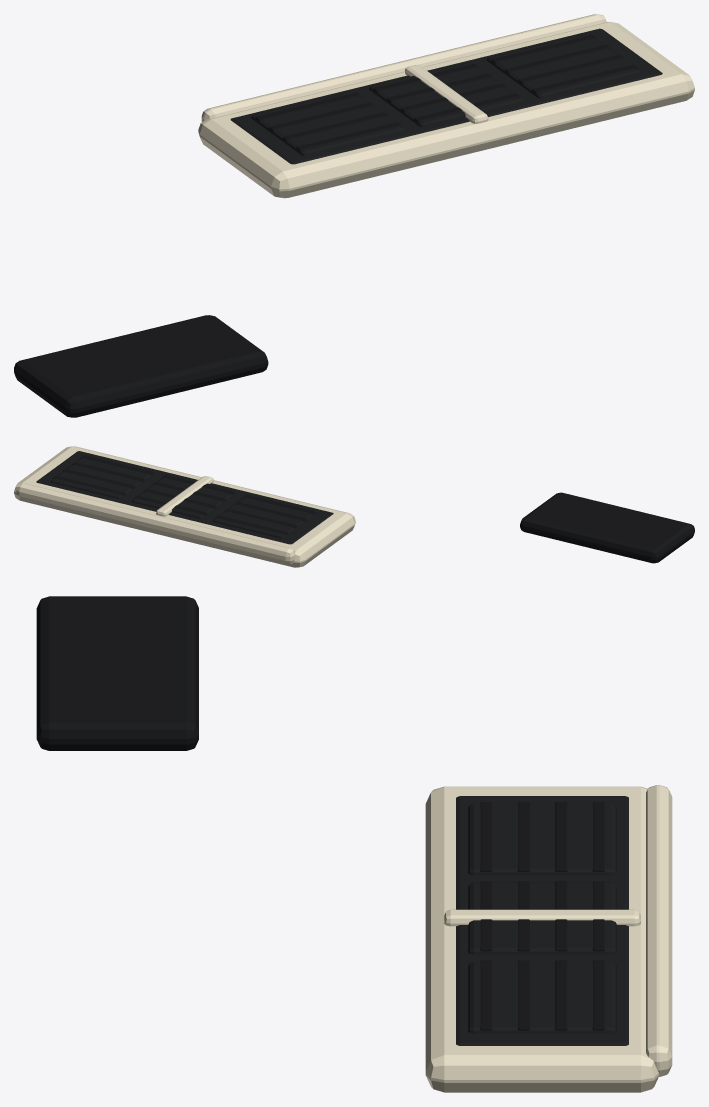
The model's file is hood_urnieta_1970.glb.
The picture shows the model from 3 angles, top to bottom: view 1: azimuth 30°, elevation 25°; view 2: azimuth 150°, elevation 25°; view 3: azimuth 270°, elevation 25°; orthographic projection. The views are drawn at different scales.
Parts seen in each view (by area): view 1: surround.003, cvent, well.001, lip.008, slot2.002, slot0.003, slot1.003, rib.001; view 2: cvent, surround.003, lip.008, well.001, slot2.002, slot0.003, slot1.003, rib.001, fin21.010, fin01.001, fin00.001, fin20.010 (+8 smaller); view 3: cvent, surround.003, well.001, slot0.003, slot2.002, lip.008, slot1.003, rib.001, fin23.010, fin21.010, fin03.001, fin01.001 (+7 smaller).
Boxes of the visible parts, x1=… form: surround.003: x1=198, y1=21, x2=694, y2=198; cvent: x1=14, y1=315, x2=268, y2=417; well.001: x1=230, y1=28, x2=662, y2=164; lip.008: x1=201, y1=14, x2=606, y2=121; slot2.002: x1=487, y1=33, x2=641, y2=98; slot0.003: x1=251, y1=91, x2=405, y2=156; slot1.003: x1=369, y1=62, x2=523, y2=127; rib.001: x1=405, y1=65, x2=488, y2=123; cvent: x1=520, y1=492, x2=694, y2=563; surround.003: x1=14, y1=446, x2=355, y2=567; lip.008: x1=16, y1=483, x2=295, y2=564; well.001: x1=36, y1=451, x2=333, y2=544; slot2.002: x1=50, y1=454, x2=156, y2=498; slot0.003: x1=213, y1=494, x2=319, y2=538; slot1.003: x1=131, y1=474, x2=237, y2=518; rib.001: x1=156, y1=476, x2=213, y2=516; fin21.010: x1=62, y1=469, x2=135, y2=488; fin01.001: x1=225, y1=508, x2=297, y2=528; fin00.001: x1=215, y1=515, x2=288, y2=535; fin20.010: x1=53, y1=476, x2=125, y2=495; cvent: x1=36, y1=596, x2=198, y2=750; surround.003: x1=425, y1=786, x2=659, y2=1092; well.001: x1=456, y1=796, x2=628, y2=1045; slot0.003: x1=468, y1=803, x2=616, y2=875; slot2.002: x1=468, y1=962, x2=616, y2=1033; lip.008: x1=646, y1=785, x2=672, y2=1076; slot1.003: x1=468, y1=882, x2=616, y2=954; rib.001: x1=444, y1=909, x2=640, y2=926; fin23.010: x1=480, y1=960, x2=492, y2=1030; fin21.010: x1=555, y1=960, x2=567, y2=1030; fin03.001: x1=480, y1=802, x2=492, y2=871; fin01.001: x1=555, y1=802, x2=567, y2=871.
Bounding box in the file's own units: 0.786 × 0.0594 × 0.407.
